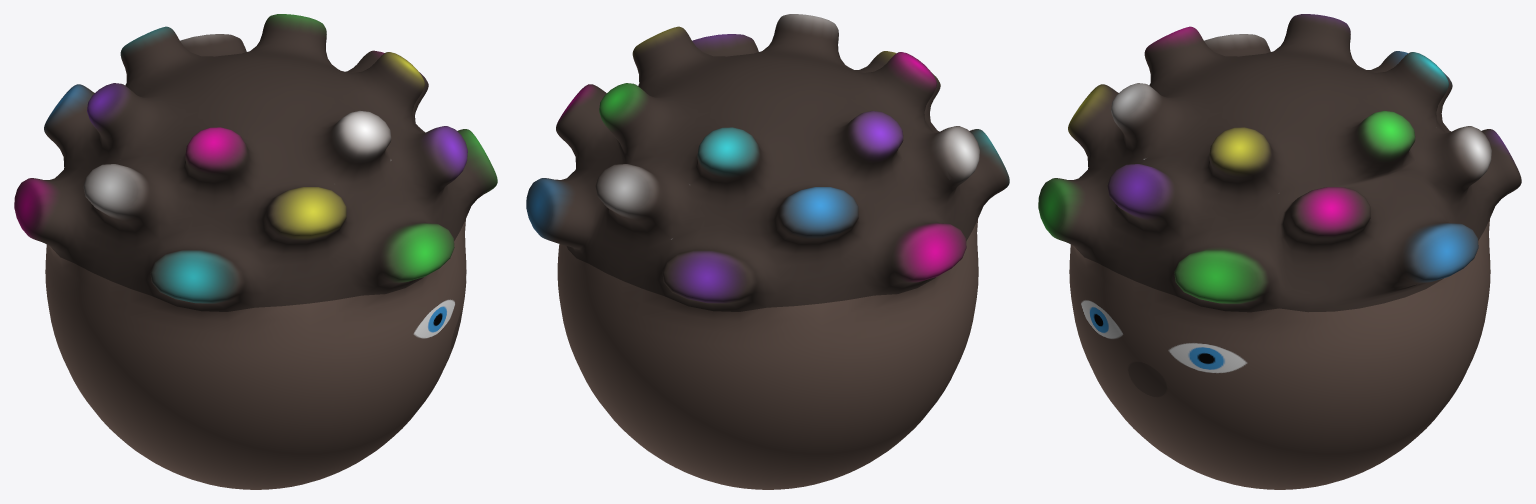
The model's file is Maya.fbx.
3 renders of one model, left to right at view 1: azimuth 30°, elevation 25°; view 2: azimuth 150°, elevation 25°; view 3: azimuth 270°, elevation 25°, orthographic.
Parts seen in each view (by area): view 1: pSphere1; view 2: pSphere1; view 3: pSphere1.
Part boxes in pixels (x1,y1,x2,y2): pSphere1: (14, 14, 497, 489); pSphere1: (526, 14, 1009, 489); pSphere1: (1038, 14, 1521, 489).
Bounding box in the file's own units: 0.0218 × 0.0199 × 0.0218.
Materials: 1 (1 with a texture image).
